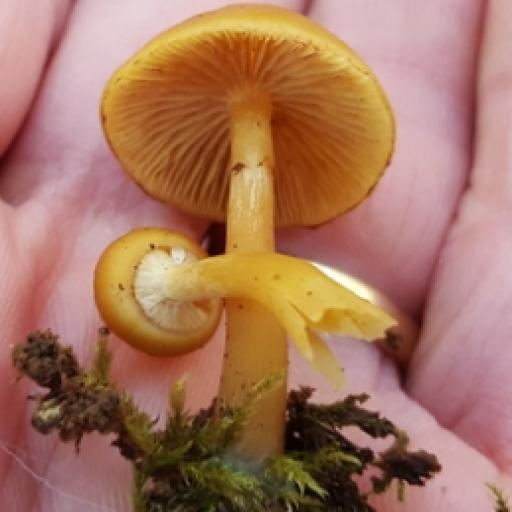Funeral Bell: (90, 1, 419, 452)
